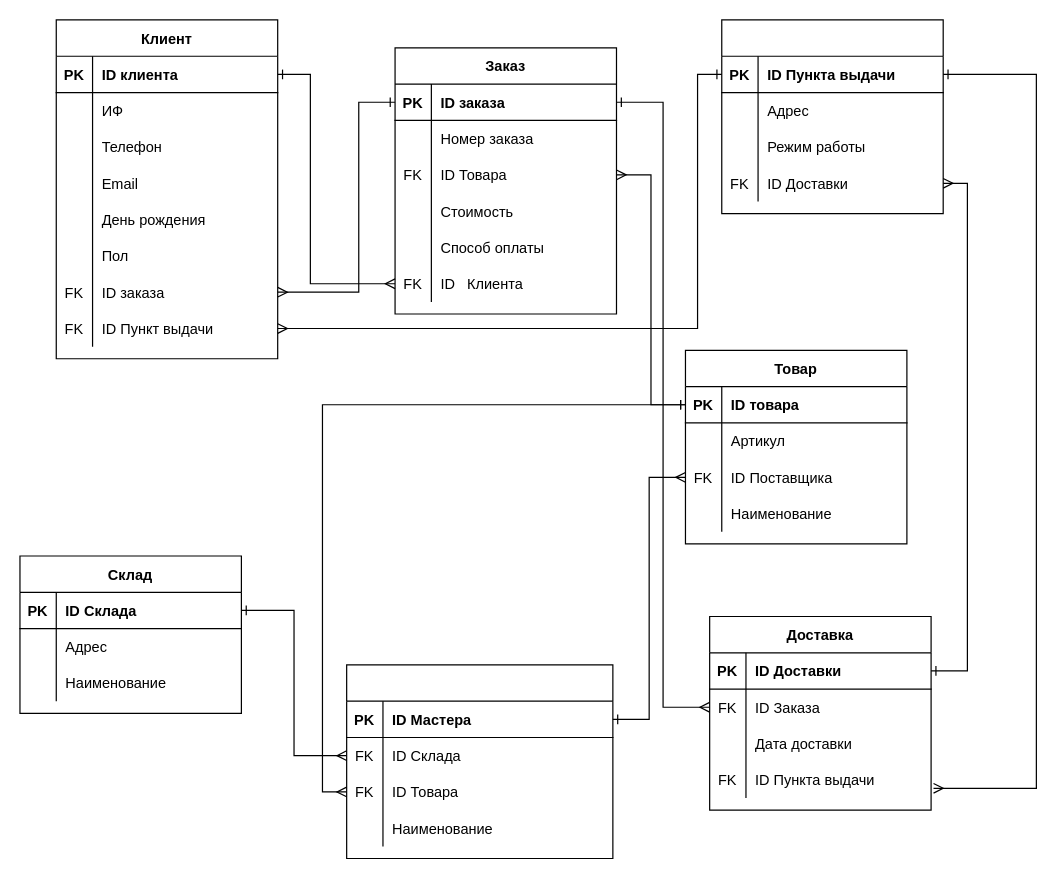
This 1056x878 diagram has some shape labels left out. Here are the shapes that lost their labels. From the top down, the box of each, then its label:
(721, 19, 943, 214): Пункт выдачи
(345, 664, 613, 858): Мастер по изготовлению (Кузнец)
